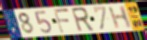5: (33, 9, 54, 34)
7: (92, 6, 108, 31)
8: (18, 12, 36, 35)
F: (53, 8, 72, 34)
H: (107, 5, 133, 31)
R: (70, 7, 96, 34)
